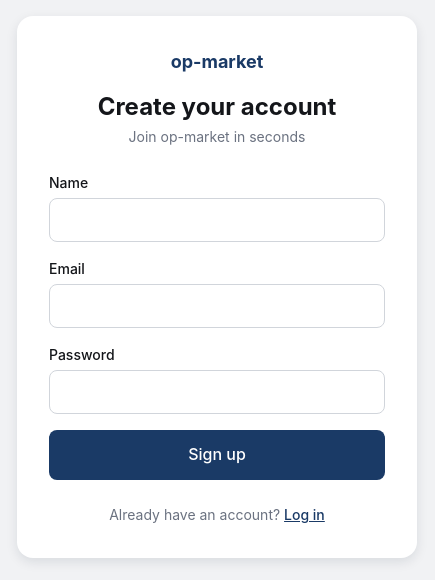
Test case: SignupPage › shows a different message on the success screen when the verification email failed to send
The image size is (435, 580).
Type "Lahcen" into the field labelled "Name" at {"x": 217, "y": 220}, box x1=49 y1=198 x2=385 y2=242
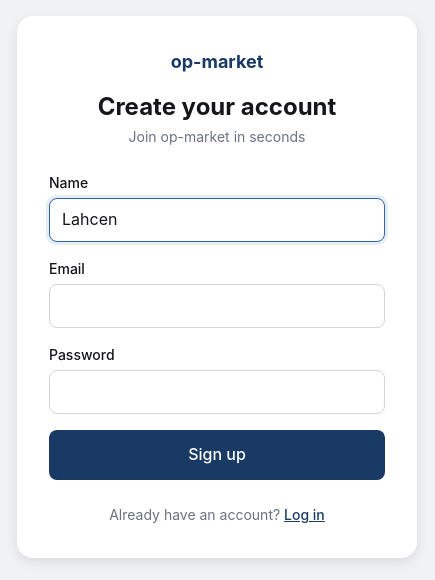
Type "lahcen@test.com" into the field labelled "Email" at {"x": 217, "y": 306}, box x1=49 y1=284 x2=385 y2=328
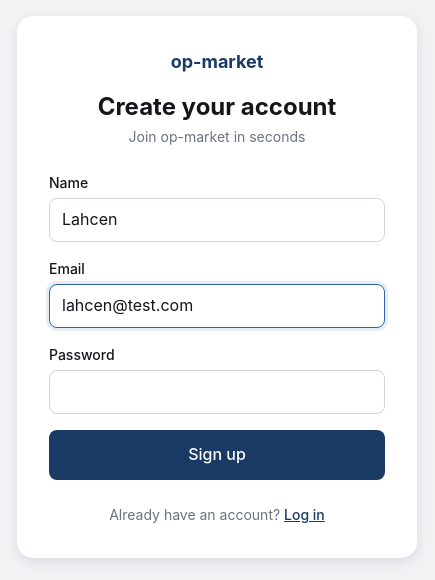
Type "secret123" into the password field labelled "Password" at {"x": 217, "y": 392}, box x1=49 y1=370 x2=385 y2=414
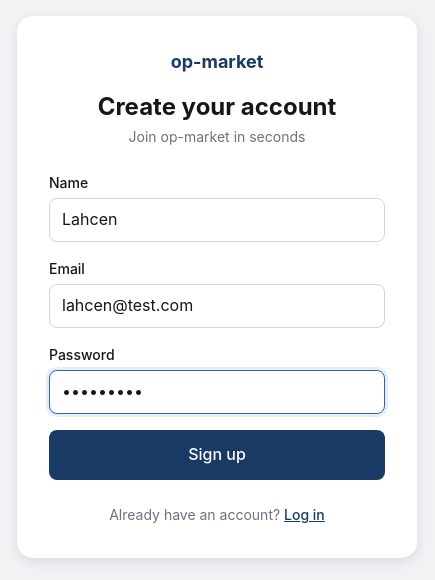
Click the button "Sign up" at {"x": 217, "y": 455}, box x1=49 y1=430 x2=385 y2=480
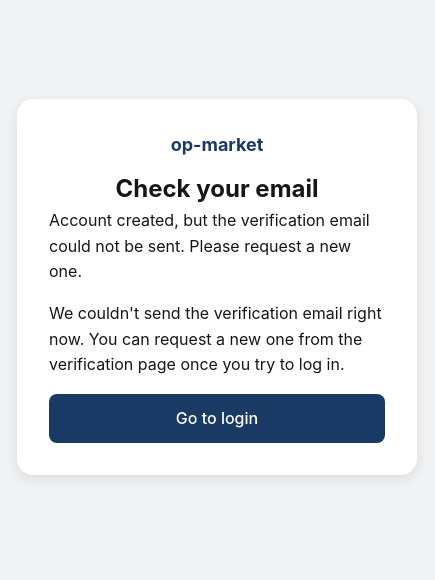
Expected: the text "couldn't send the verification email" is shown, x1=49 y1=303 x2=382 y2=374
